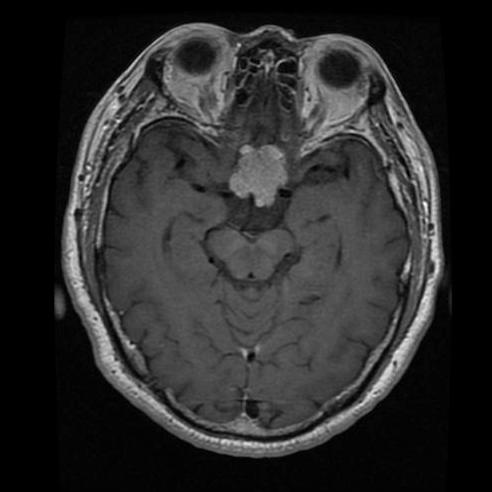Tumour-Pituitary: (213, 137, 304, 221)
